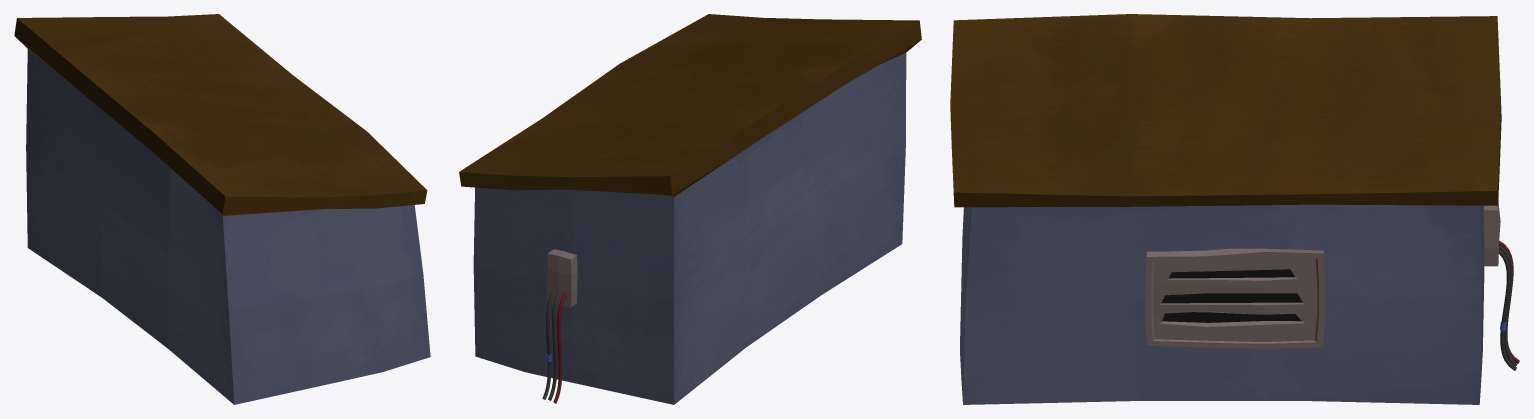
File: house-base-1-roof.fbx
3 views of the same model, side by side, from view 1: azimuth 30°, elevation 25°; view 2: azimuth 150°, elevation 25°; view 3: azimuth 270°, elevation 25° (orthographic). The views are drawn at different scales.
Visible parts, largest first — view 1: Cylinder.003; view 2: Cylinder.003; view 3: Cylinder.003.
Boxes of the visible parts, left/top/right/bottom form: Cylinder.003: left=14, top=14, right=430, bottom=404; Cylinder.003: left=459, top=14, right=921, bottom=404; Cylinder.003: left=950, top=14, right=1519, bottom=404.
Size of the model in its own units: 55.78 by 57.4 by 103.
